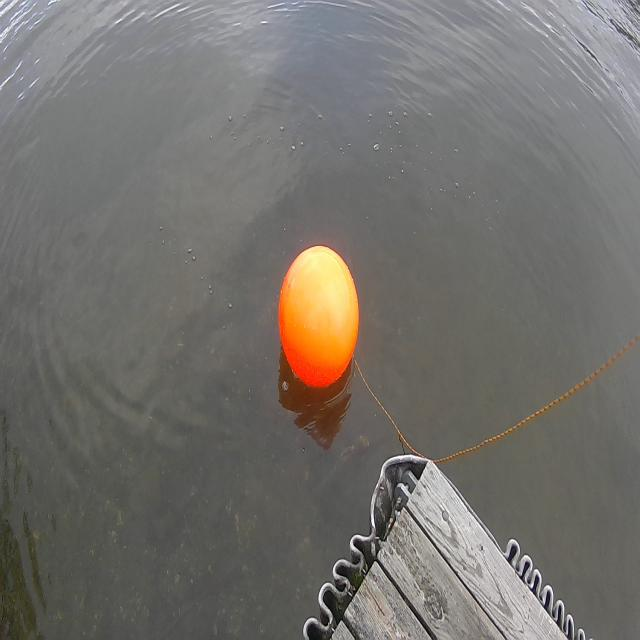Buoy: (269, 234, 365, 407)
